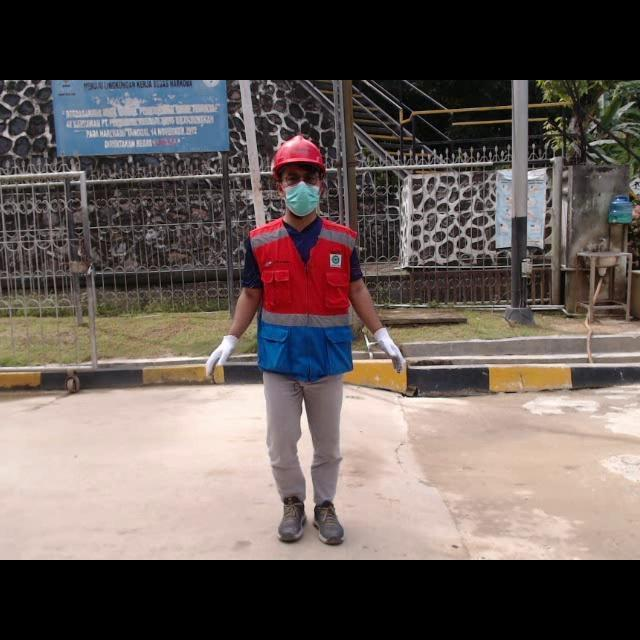Gloves: (206, 335, 240, 377), (374, 328, 405, 373)
Hardhat: (269, 135, 328, 169)
Mask: (280, 181, 322, 217)
Person: (204, 137, 407, 546)
Safety Vest: (248, 216, 358, 330)
